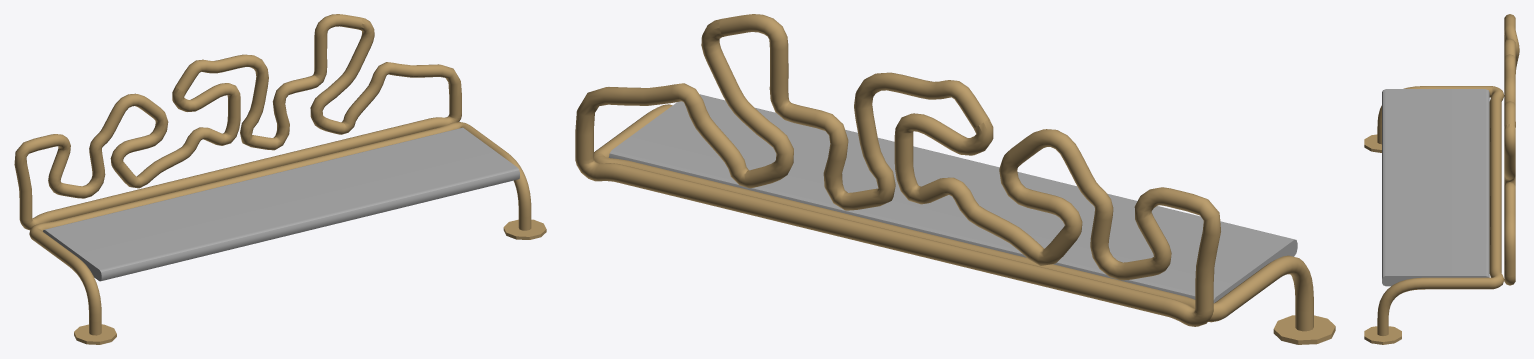
Rendered from Bench.fbx.
3 renders of one model, left to right at view 1: azimuth 30°, elevation 25°; view 2: azimuth 150°, elevation 25°; view 3: azimuth 270°, elevation 25°, orthographic. The views are drawn at different scales.
Parts seen in each view (by area): view 1: pCube163, polySurface165, polySurface63; view 2: polySurface165, pCube163, polySurface63; view 3: pCube163, polySurface63, polySurface165.
Part boxes in pixels (x1,y1,x2,y2): pCube163: (43,127,519,281); polySurface165: (14,14,461,230); polySurface63: (29,122,546,344); polySurface165: (575,14,1220,326); pCube163: (608,94,1297,302); polySurface63: (594,104,1335,344); pCube163: (1382,89,1489,286); polySurface63: (1364,86,1504,344); polySurface165: (1504,14,1519,285).
Bounding box in the file's own units: 488 × 195 × 154.
